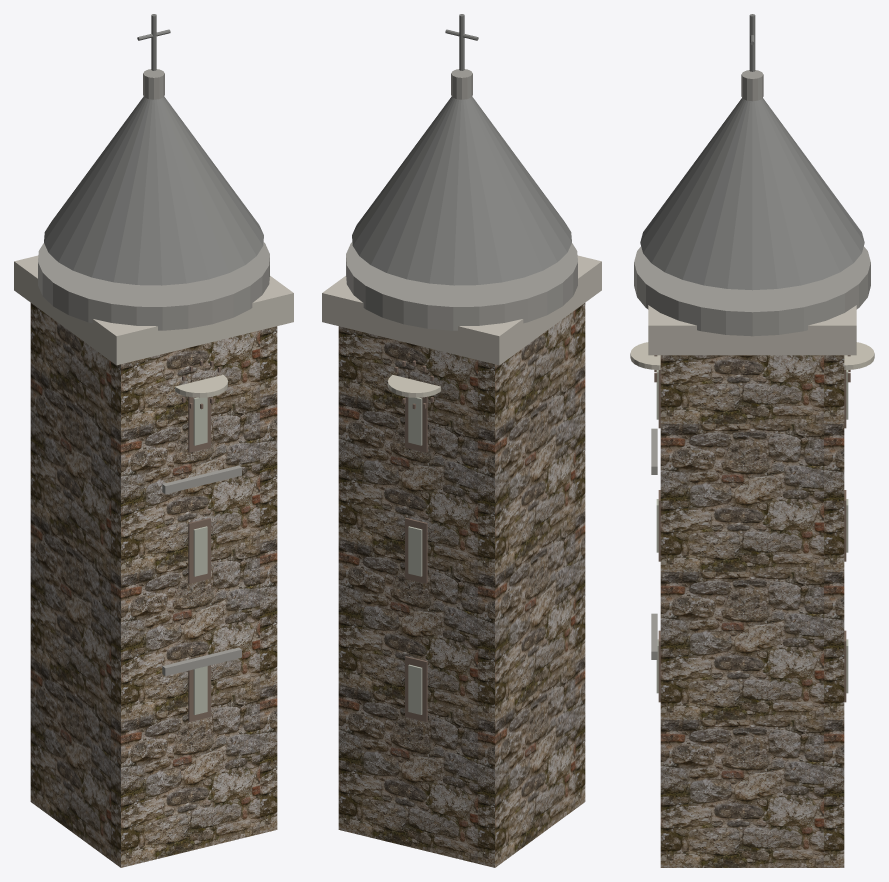
File: kirchturm.glb
3 renders of one model, left to right at view 1: azimuth 30°, elevation 25°; view 2: azimuth 150°, elevation 25°; view 3: azimuth 270°, elevation 25°, orthographic.
Parts seen in each view (by area): view 1: kirchturm_000, kirchturm_043, kirchturm_042, kirchturm_001, kirchturm_014, kirchturm_015, kirchturm_029, kirchturm_008, kirchturm_009, kirchturm_005, kirchturm_013, kirchturm_044 (+2 smaller); view 2: kirchturm_000, kirchturm_043, kirchturm_042, kirchturm_001, kirchturm_016, kirchturm_006, kirchturm_002, kirchturm_007, kirchturm_003, kirchturm_011, kirchturm_044, kirchturm_010; view 3: kirchturm_000, kirchturm_043, kirchturm_042, kirchturm_001, kirchturm_044, kirchturm_016, kirchturm_029.
Boxes of the visible parts, <box> form: kirchturm_000: <box>30,303,277,867</box>; kirchturm_043: <box>44,96,263,285</box>; kirchturm_042: <box>38,242,269,330</box>; kirchturm_001: <box>14,255,293,365</box>; kirchturm_014: <box>162,647,241,676</box>; kirchturm_015: <box>162,465,241,494</box>; kirchturm_029: <box>175,375,227,397</box>; kirchturm_008: <box>188,518,210,583</box>; kirchturm_009: <box>193,526,207,576</box>; kirchturm_005: <box>193,666,207,714</box>; kirchturm_013: <box>193,397,207,445</box>; kirchturm_044: <box>143,69,164,99</box>; kirchturm_000: <box>338,303,585,867</box>; kirchturm_043: <box>352,96,571,285</box>; kirchturm_042: <box>346,242,577,330</box>; kirchturm_001: <box>322,255,601,365</box>; kirchturm_016: <box>388,375,440,397</box>; kirchturm_006: <box>405,518,427,583</box>; kirchturm_002: <box>405,656,427,721</box>; kirchturm_007: <box>408,526,422,576</box>; kirchturm_003: <box>408,664,422,714</box>; kirchturm_011: <box>408,397,422,445</box>; kirchturm_044: <box>451,69,472,99</box>; kirchturm_010: <box>405,396,427,452</box>; kirchturm_000: <box>660,355,844,867</box>; kirchturm_043: <box>640,98,864,290</box>; kirchturm_042: <box>634,246,870,336</box>; kirchturm_001: <box>648,305,856,355</box>; kirchturm_044: <box>741,70,763,101</box>; kirchturm_016: <box>844,342,874,369</box>; kirchturm_029: <box>630,342,660,369</box>.
Bounding box in the file's own units: 5.8 × 22 × 5.98.
1 material, 1 textured.
